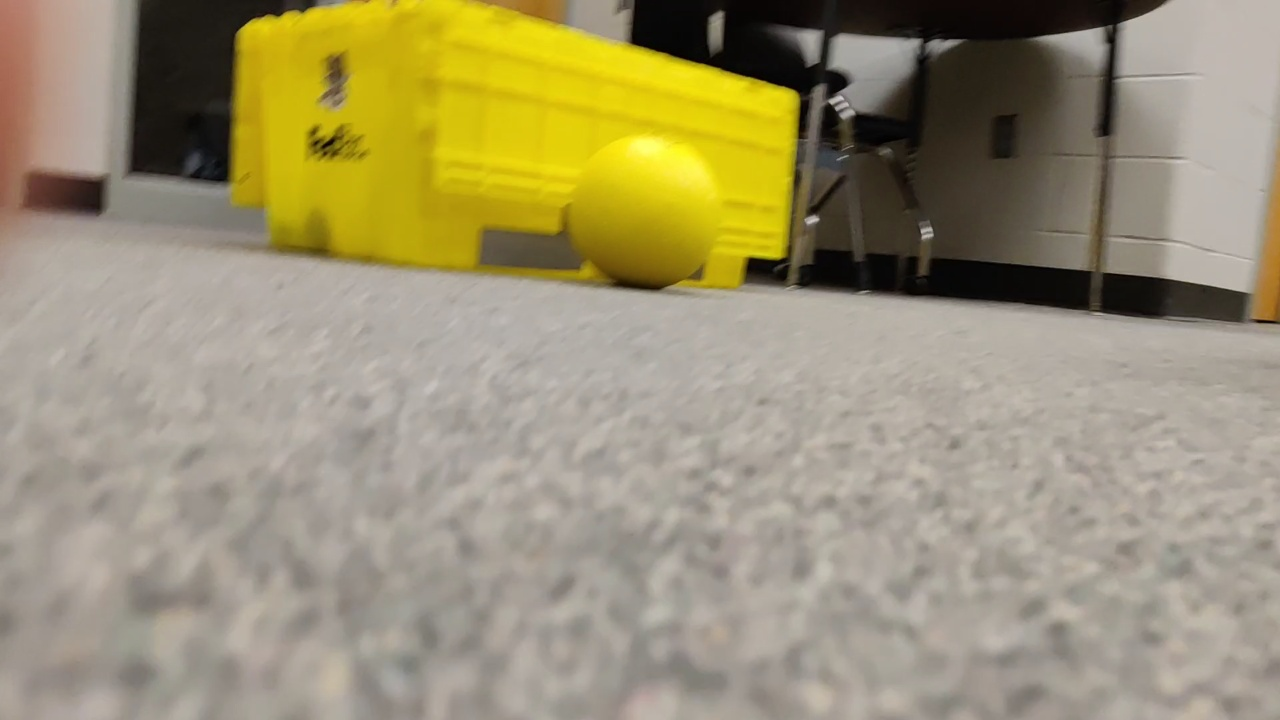Ball: (528, 95, 1175, 549)
